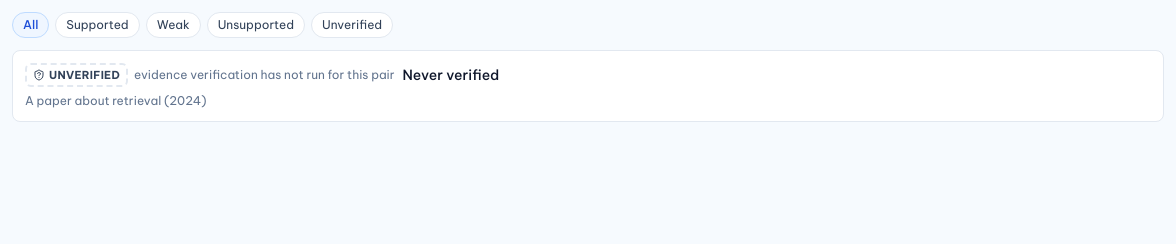
Test: the why-this-label page › draws no layer bar for an unverified pair — no layer ever touched it
The width and height of the screenshot is (1176, 244).
Click the button "Never verified" at [76, 75], box [13,51,1163,121]
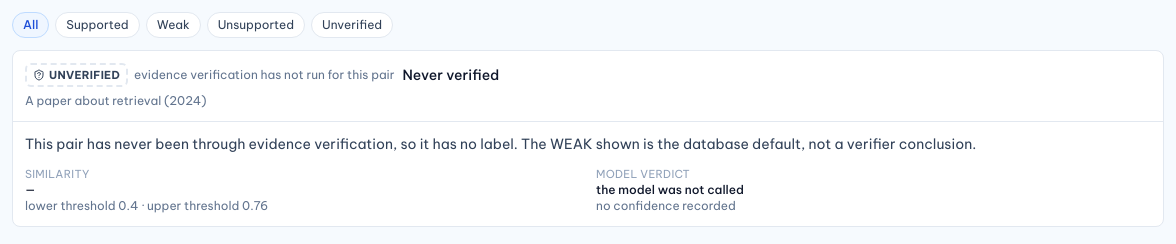
Expected: the text "never been through evidence verification" is shown, [25,135,976,153]
